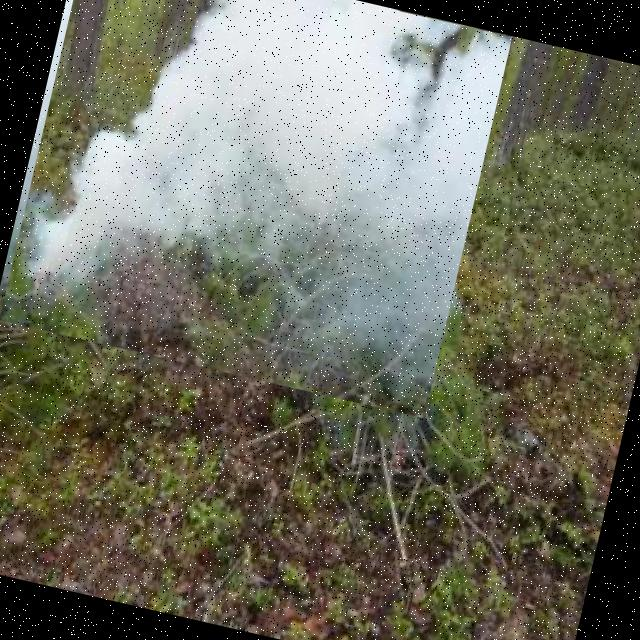fire: (0, 0, 511, 418)
